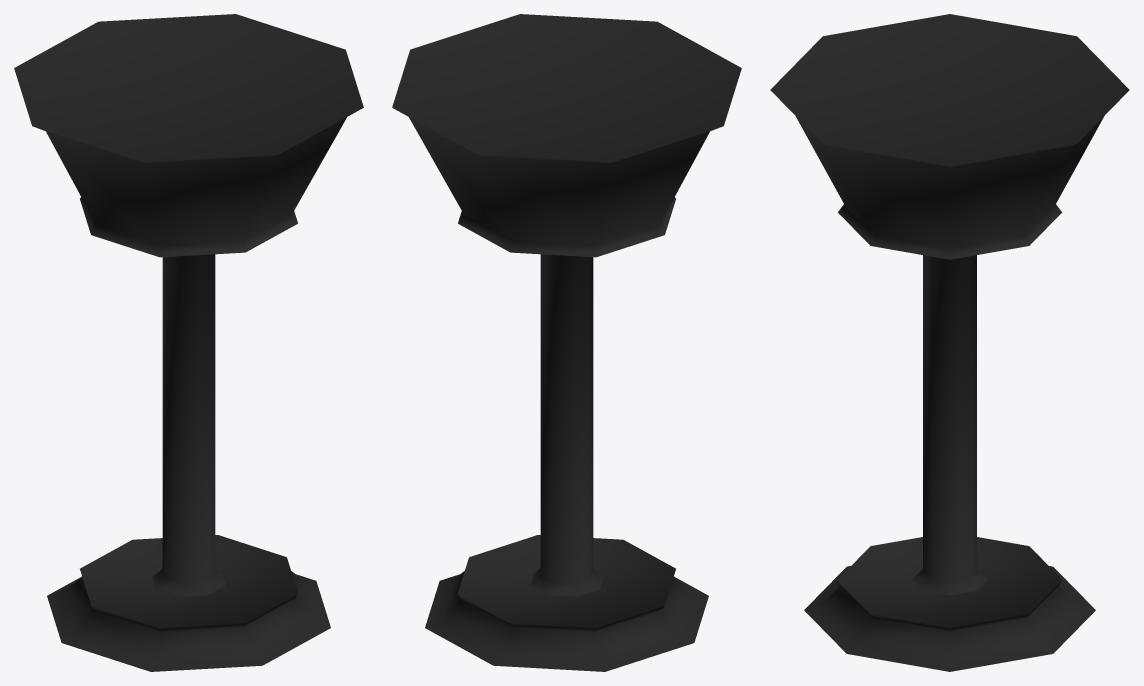
The model's file is iron-brazier.glb.
The picture shows the model from 3 angles, left to right: view 1: azimuth 30°, elevation 25°; view 2: azimuth 150°, elevation 25°; view 3: azimuth 270°, elevation 25°; orthographic projection.
Parts seen in each view (by area): view 1: iron_brazier; view 2: iron_brazier; view 3: iron_brazier.
Boxes of the visible parts, left/top/right/bottom form: iron_brazier: left=14, top=14, right=363, bottom=671; iron_brazier: left=392, top=14, right=741, bottom=671; iron_brazier: left=770, top=14, right=1129, bottom=671.
Size of the model in its own units: 0.5325 by 0.85 by 0.5325.
Materials: 1 (1 with a texture image).
